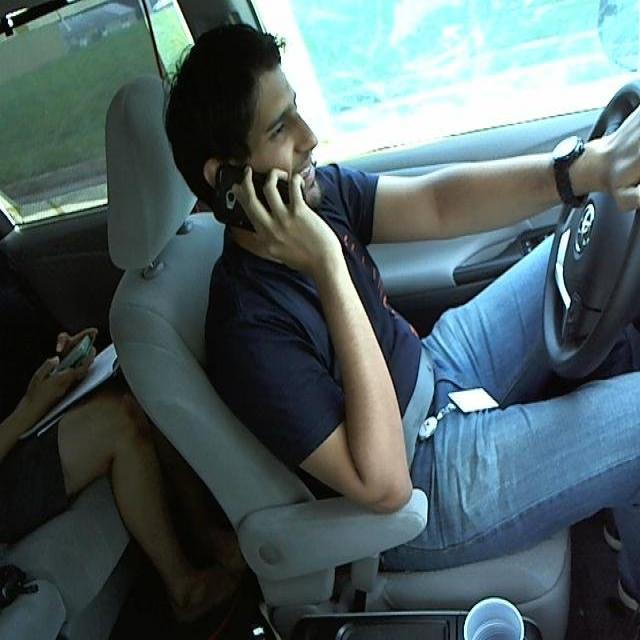using_phone: (126, 11, 378, 306)
